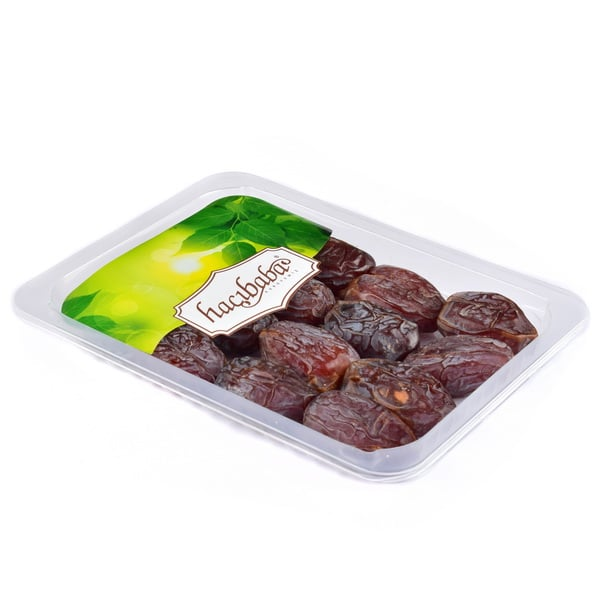hurmaa: (263, 312, 362, 390)
